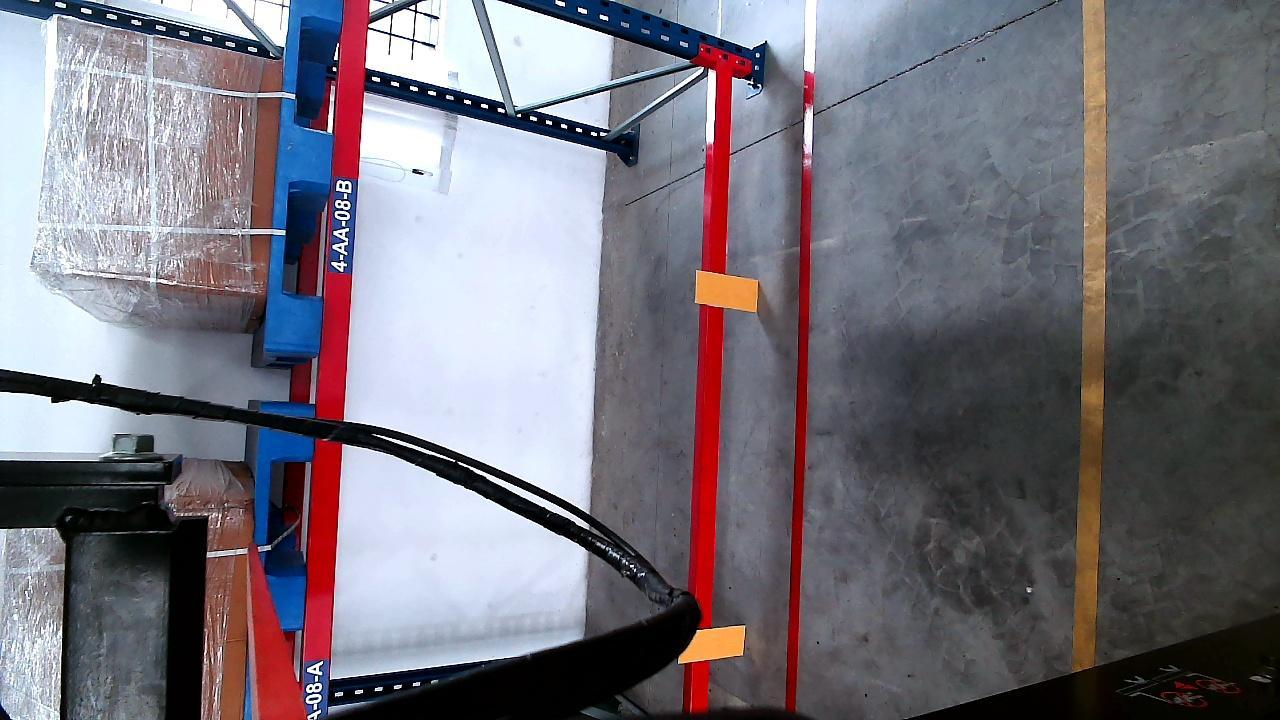red_line: (784, 1, 818, 710)
yellow_line: (1078, 0, 1102, 671)
